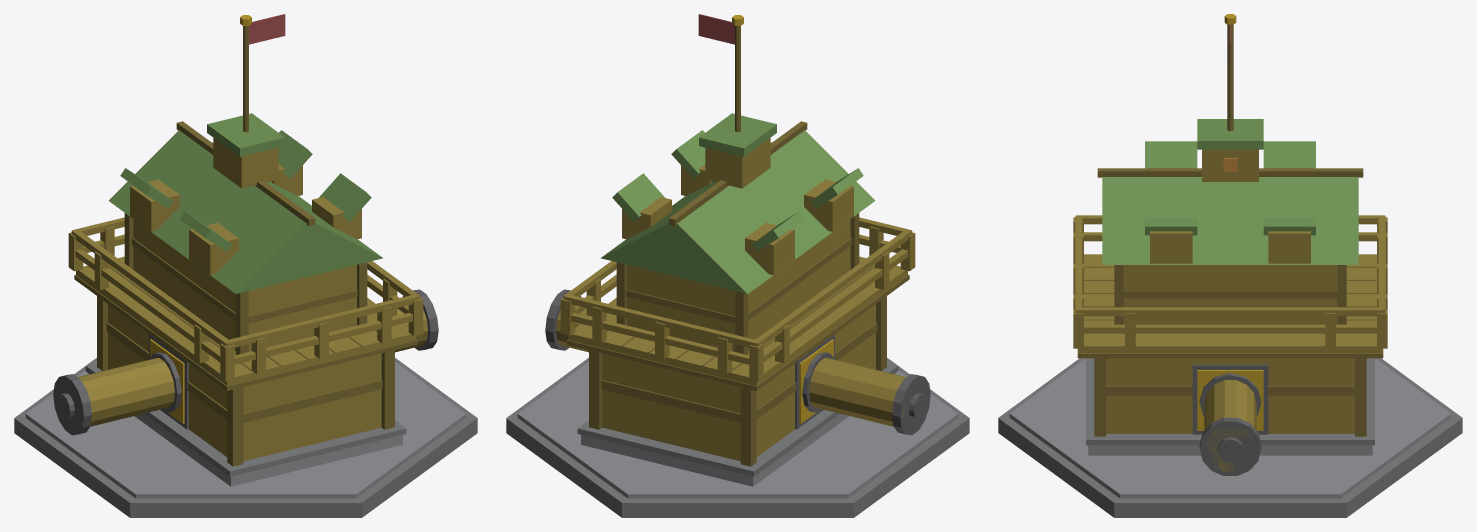
The model's file is storage_s2_ruin.glb.
The picture shows the model from 3 angles, left to right: view 1: azimuth 30°, elevation 25°; view 2: azimuth 150°, elevation 25°; view 3: azimuth 270°, elevation 25°; orthographic projection.
Parts seen in each view (by area): view 1: S_FoundRim, S_Roof, S_GF_Walls, S_Foundation, S_UF_Walls, S_Walkway, S_PipeStubW, S_PlinthCap, S_Plinth, S_GF_Band, S_Erker, S_ErkerRoof (+29 smaller); view 2: S_FoundRim, S_Roof, S_GF_Walls, S_Foundation, S_UF_Walls, S_Walkway, S_PipeStubW, S_PlinthCap, S_Plinth, S_GF_Band, S_Erker, S_ErkerRoof (+29 smaller); view 3: S_FoundRim, S_Roof, S_GF_Walls, S_Foundation, S_UF_Walls, S_Walkway, S_PlinthCap, S_Rail_E_0.75, S_Rail_E_0.67, S_PipeStubE, S_Plinth, S_FlangeE_disc (+21 smaller).
Part boxes in pixels (x1,y1,x2,y2): S_FoundRim: (25, 362, 466, 498); S_Roof: (108, 130, 382, 293); S_GF_Walls: (108, 304, 381, 461); S_Foundation: (14, 358, 477, 517); S_UF_Walls: (133, 219, 356, 351); S_Walkway: (76, 256, 415, 385); S_PipeStubW: (78, 358, 174, 426); S_PlinthCap: (85, 363, 406, 476); S_Plinth: (89, 374, 402, 486); S_GF_Band: (106, 322, 382, 422); S_Erker: (213, 138, 278, 188); S_ErkerRoof: (207, 113, 284, 156); S_FoundRim: (517, 362, 958, 498); S_Roof: (601, 130, 875, 293); S_GF_Walls: (602, 304, 875, 461); S_Foundation: (506, 358, 969, 517); S_UF_Walls: (627, 219, 850, 351); S_Walkway: (568, 256, 907, 385); S_PipeStubW: (809, 358, 907, 426); S_PlinthCap: (577, 363, 898, 476); S_Plinth: (581, 374, 894, 486); S_GF_Band: (601, 322, 877, 422); S_Erker: (705, 138, 770, 188); S_ErkerRoof: (699, 113, 776, 156); S_FoundRim: (1009, 358, 1451, 498); S_Roof: (1102, 177, 1358, 264); S_GF_Walls: (1106, 358, 1354, 433); S_Foundation: (998, 358, 1462, 517); S_UF_Walls: (1123, 265, 1337, 324); S_Walkway: (1078, 254, 1382, 353); S_PlinthCap: (1086, 358, 1374, 445); S_Rail_E_0.75: (1076, 307, 1384, 316); S_Rail_E_0.67: (1084, 324, 1376, 333); S_PipeStubE: (1204, 380, 1256, 471); S_Plinth: (1088, 445, 1372, 455); S_FlangeE_disc: (1199, 417, 1261, 475).
Bounding box in the file's own units: 1.78 × 1.94 × 1.96.
